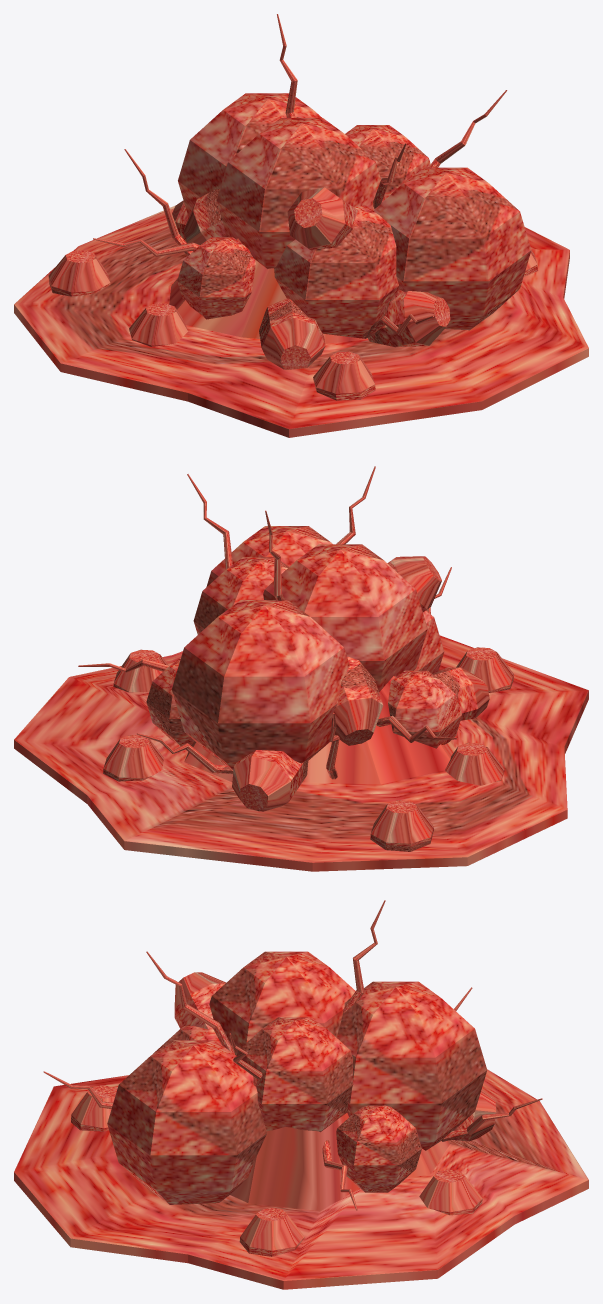
File: Boss.glb
3 views of the same model, one above another, from view 1: azimuth 30°, elevation 25°; view 2: azimuth 150°, elevation 25°; view 3: azimuth 270°, elevation 25° (orthographic). The views are drawn at different scales.
Visible parts, largest first — view 1: Cylinder; view 2: Cylinder; view 3: Cylinder.
Boxes of the visible parts, box(x1,y1,x2,y2) form: Cylinder: box(14, 14, 588, 437); Cylinder: box(14, 466, 588, 871); Cylinder: box(14, 900, 588, 1289).
Size of the model in its own units: 4.17 by 2.13 by 4.12.
Materials: 1 (1 with a texture image).
